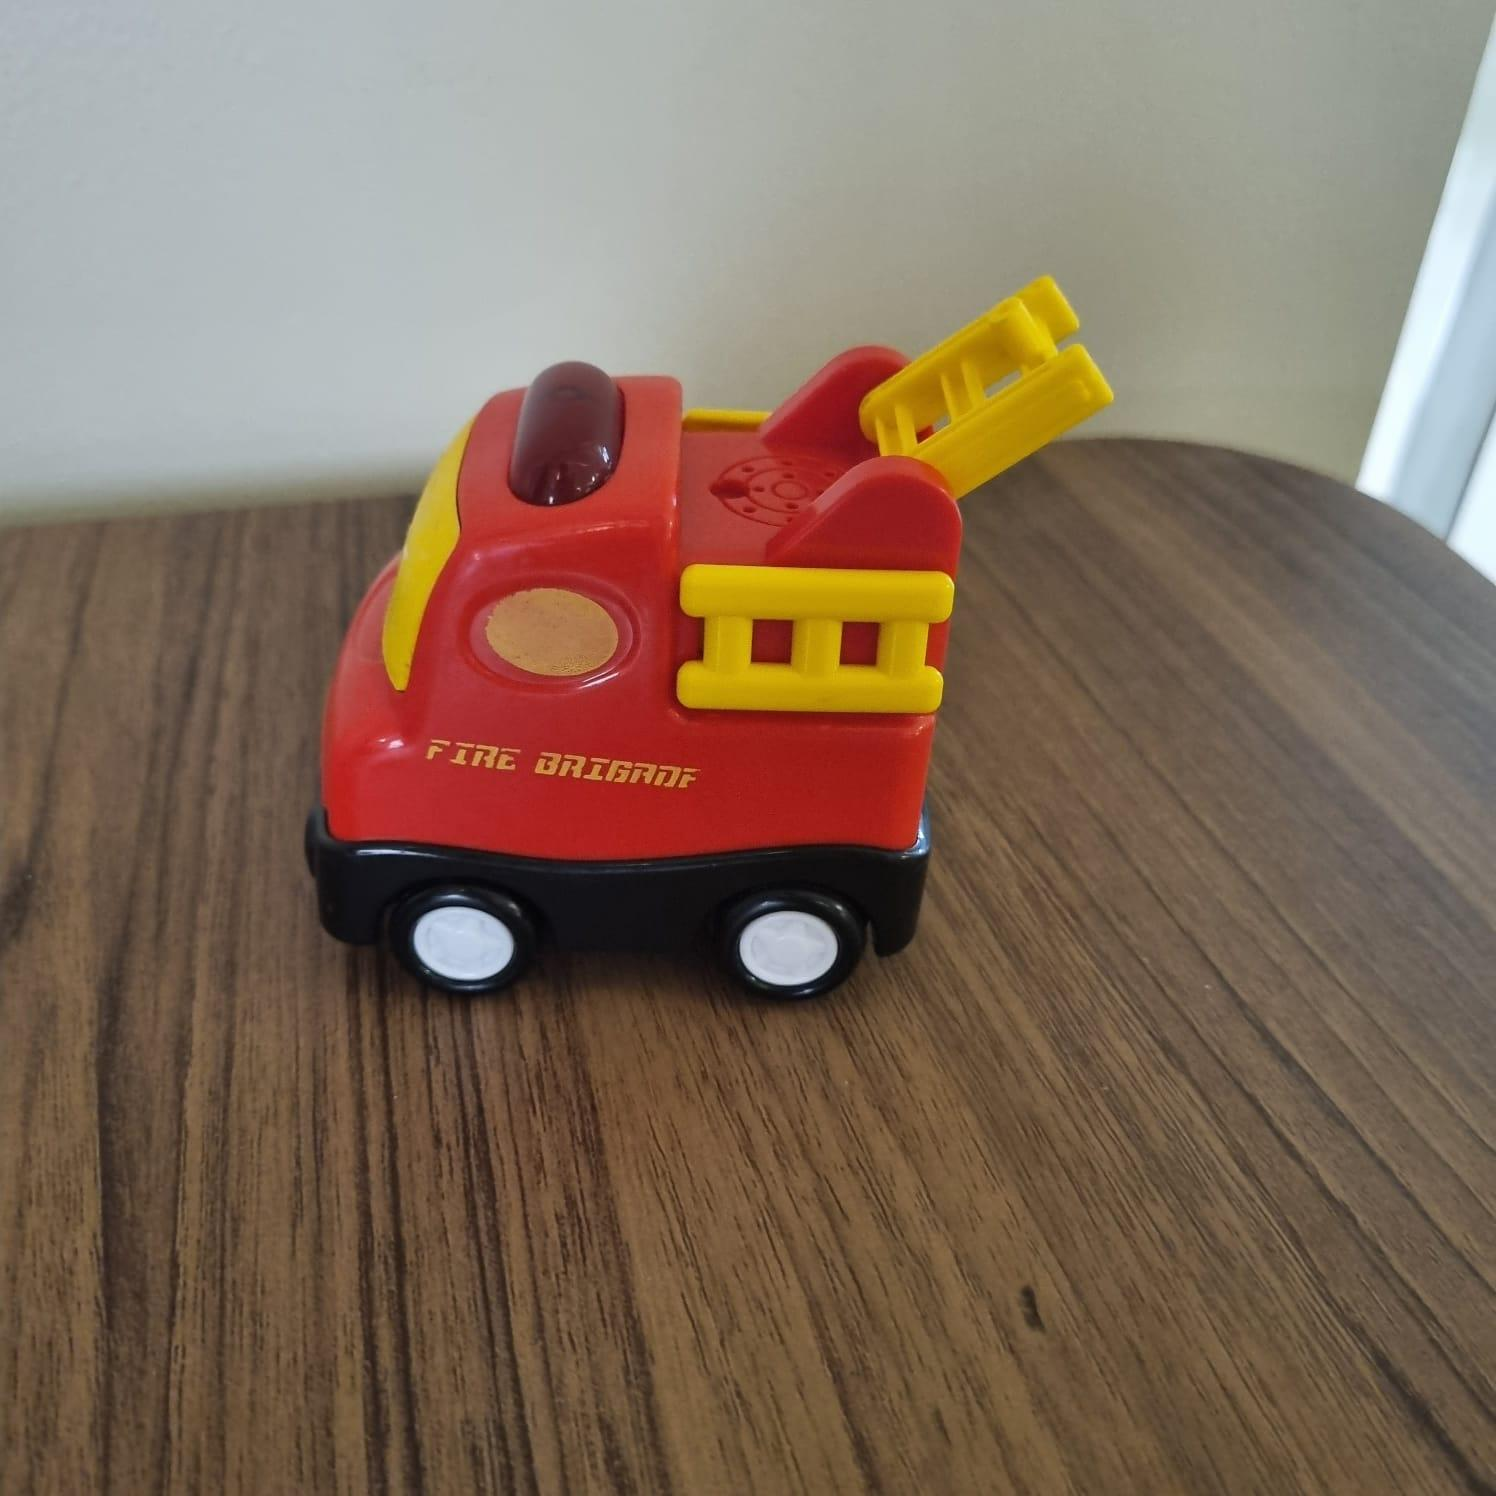firetruck_off: (314, 284, 1117, 997)
